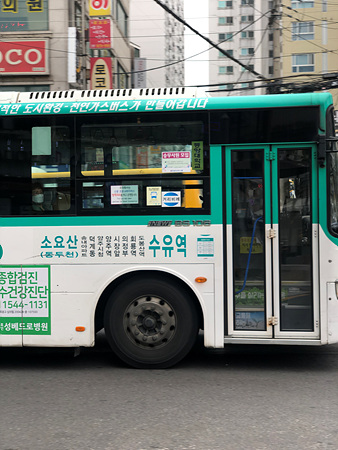entrance: (223, 141, 323, 344)
